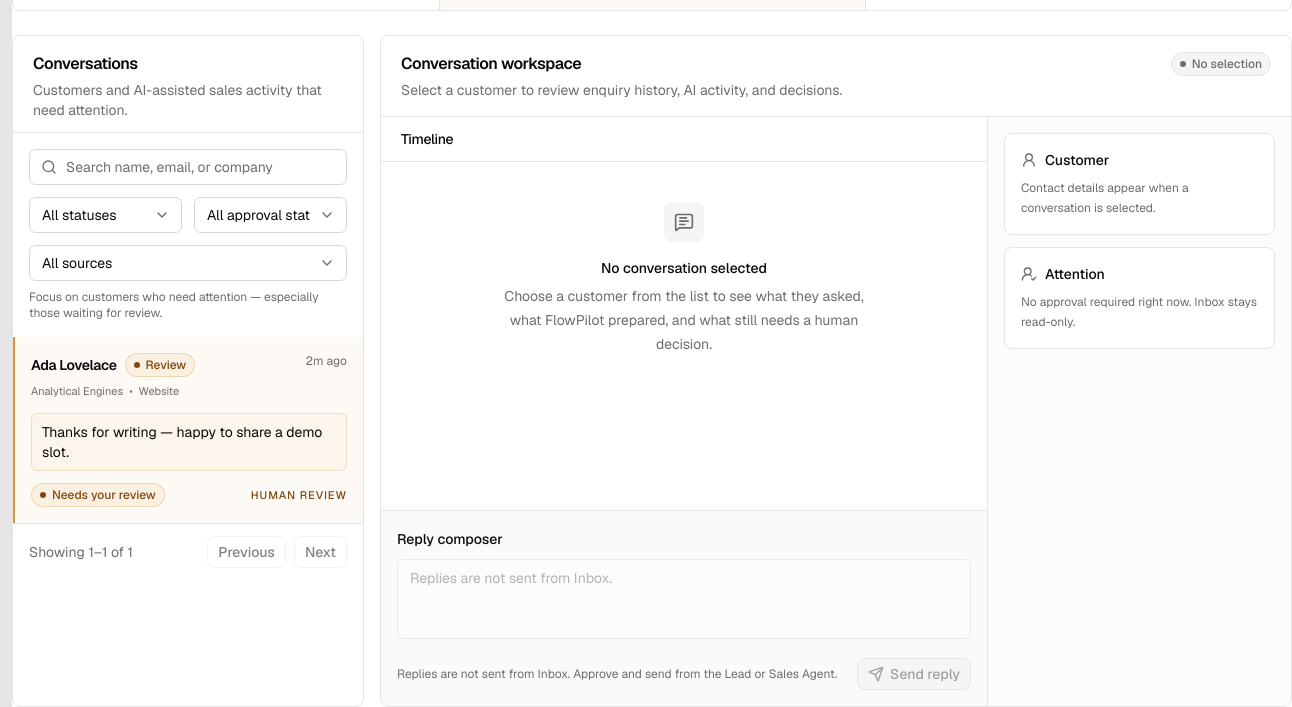
Test case: AI Inbox page › selects a lead, updates URL, and renders timeline distinctions
(page scrolled)
Click the button "Ada Lovelace".
click(188, 430)  # box 13,337 -> 363,523
(page scrolled)
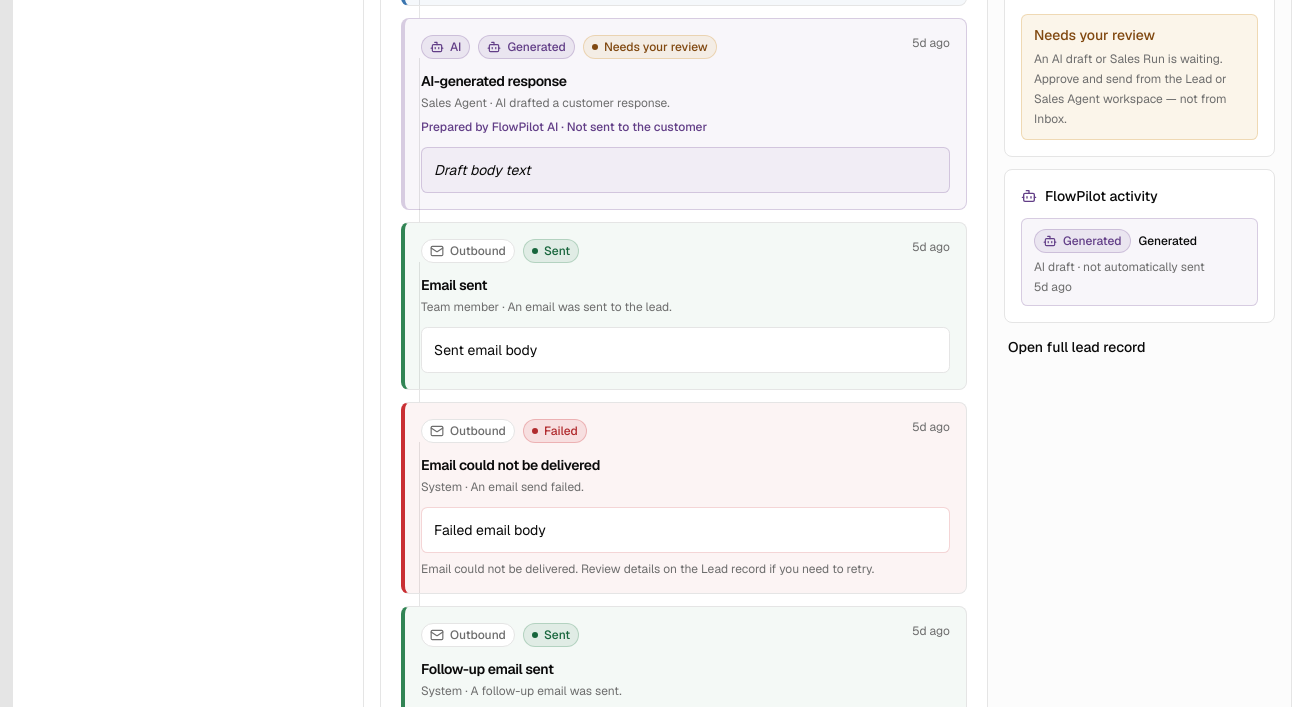
expect the heading "AI-generated response" is shown: met, box 421,72 -> 567,90
expect the text "Draft body text" is shown: met, box 421,147 -> 950,193
expect the text "Prepared by FlowPilot AI · Not sent to the customer" is shown: met, box 421,119 -> 707,135
